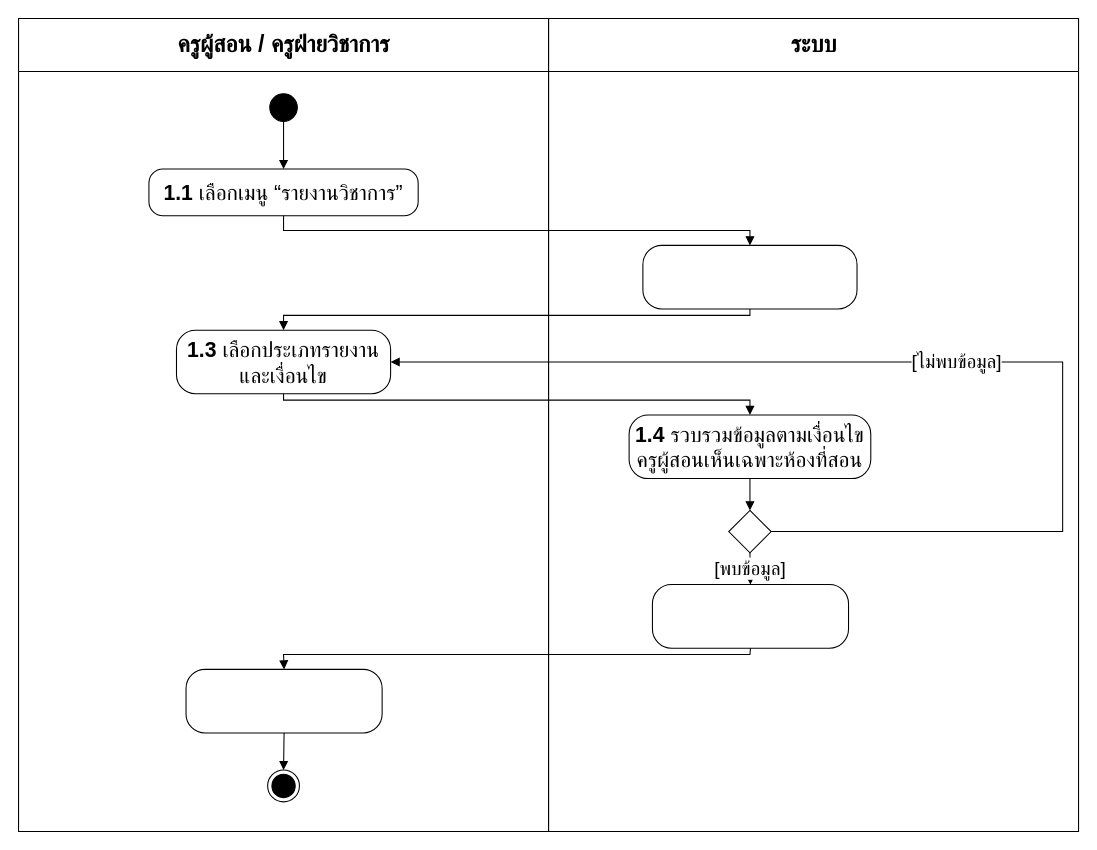
Some shapes in this 1097 by 850 pixel diagram are drawn without their labels. The box of each missing label's shape, as (x1, y1, x2, y2) in pixels:
1.2 ตรวจบทบาทและแสดง ประเภทรายงานที่มีสิทธิ์: (642, 244, 857, 309)
1.5 แสดงรายงาน เป็นตารางหรือสรุปข้อมูล: (651, 584, 849, 648)
1.6 ค้นหา กรอง หรือดูรายละเอียดรายคน: (185, 668, 382, 733)
